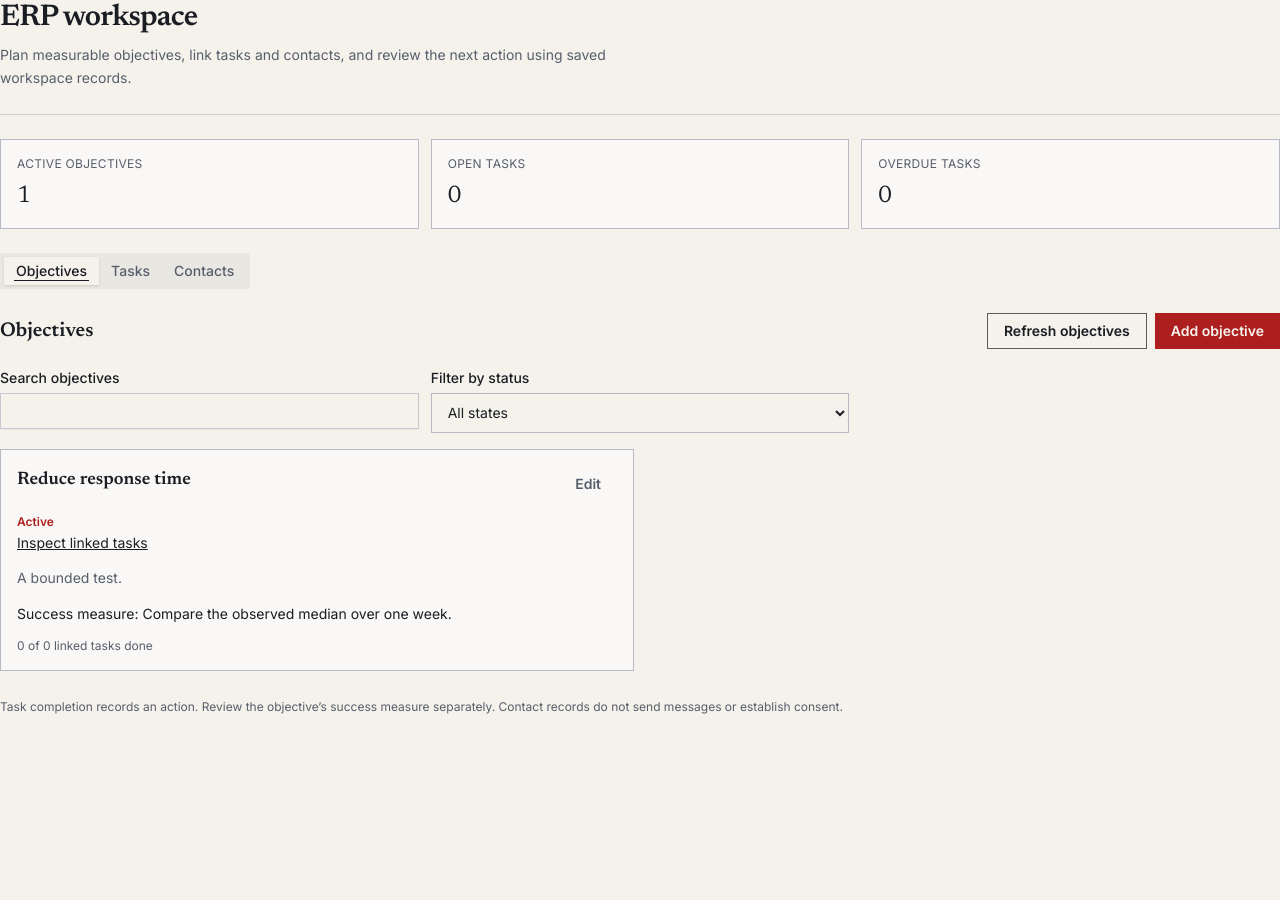
Test case: ERP planning › preserves an objective edit after a rejected save and permits a useful retry
Click the button with aria-label "Edit Reduce response time" at (588, 484), box [559, 466, 617, 502]
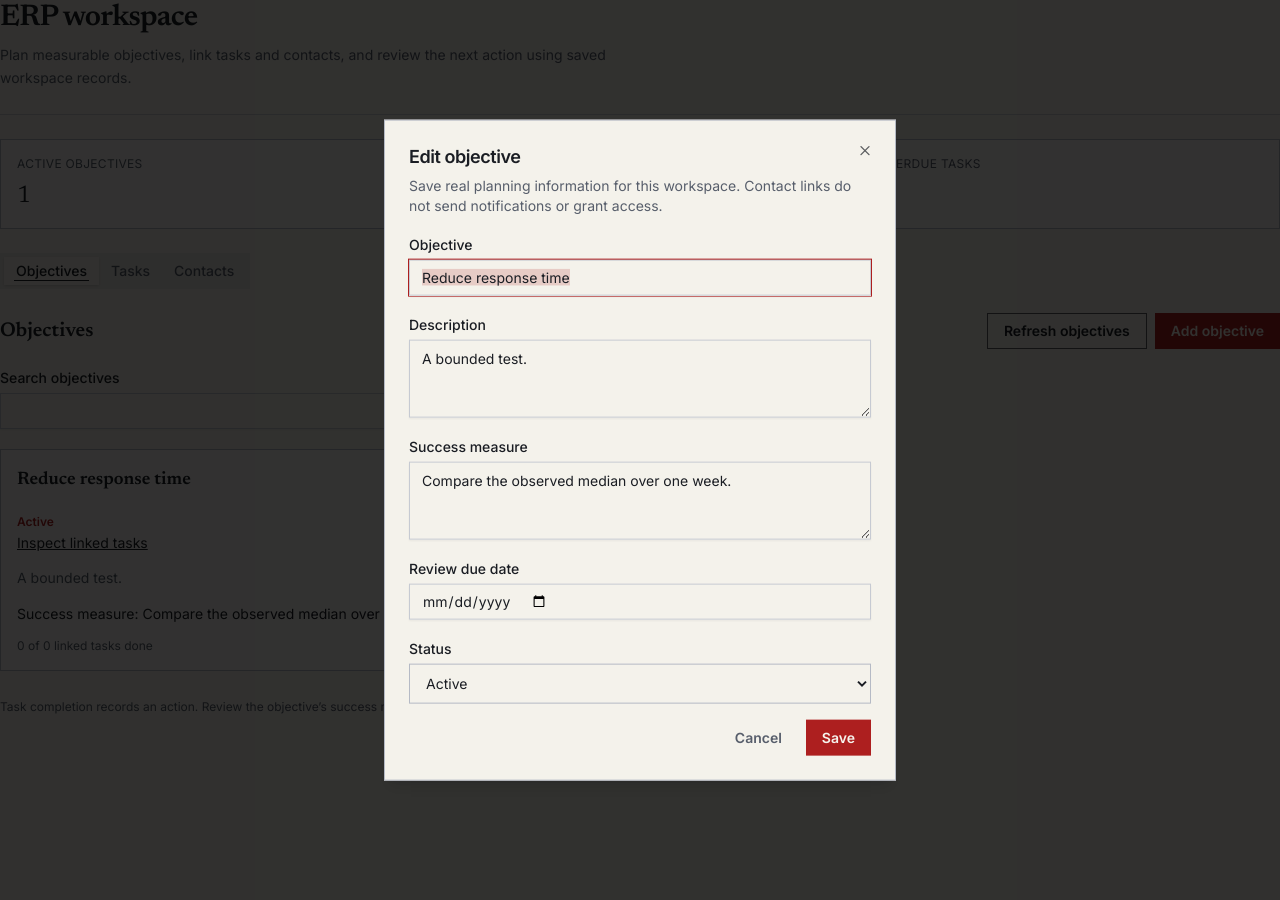
Replace the text in the text box labelled "Success measure" with "Use a measured baseline and a five-minute target." at (640, 500), box [409, 461, 871, 539]
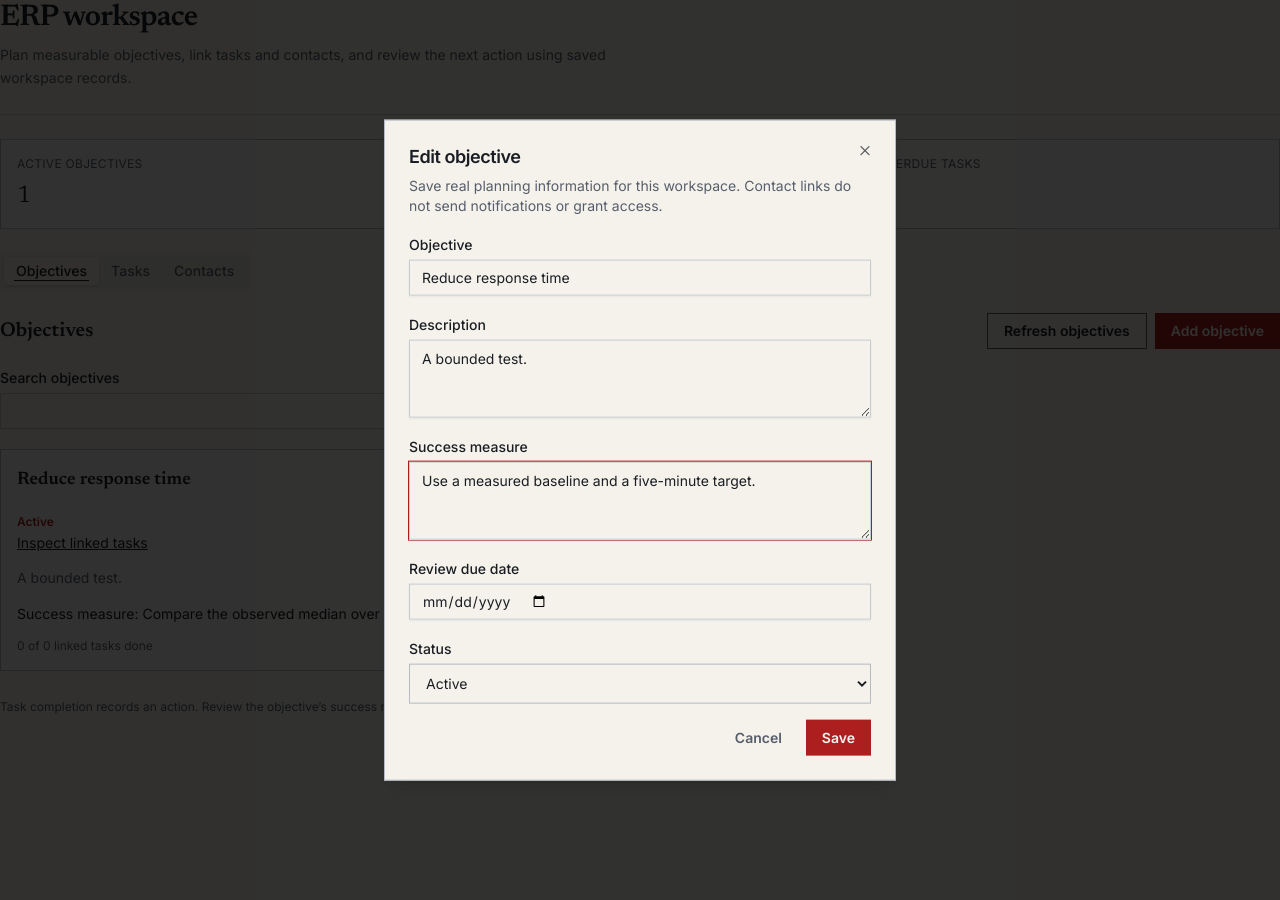
Click the button "Save" at (838, 737), box [806, 719, 871, 755]
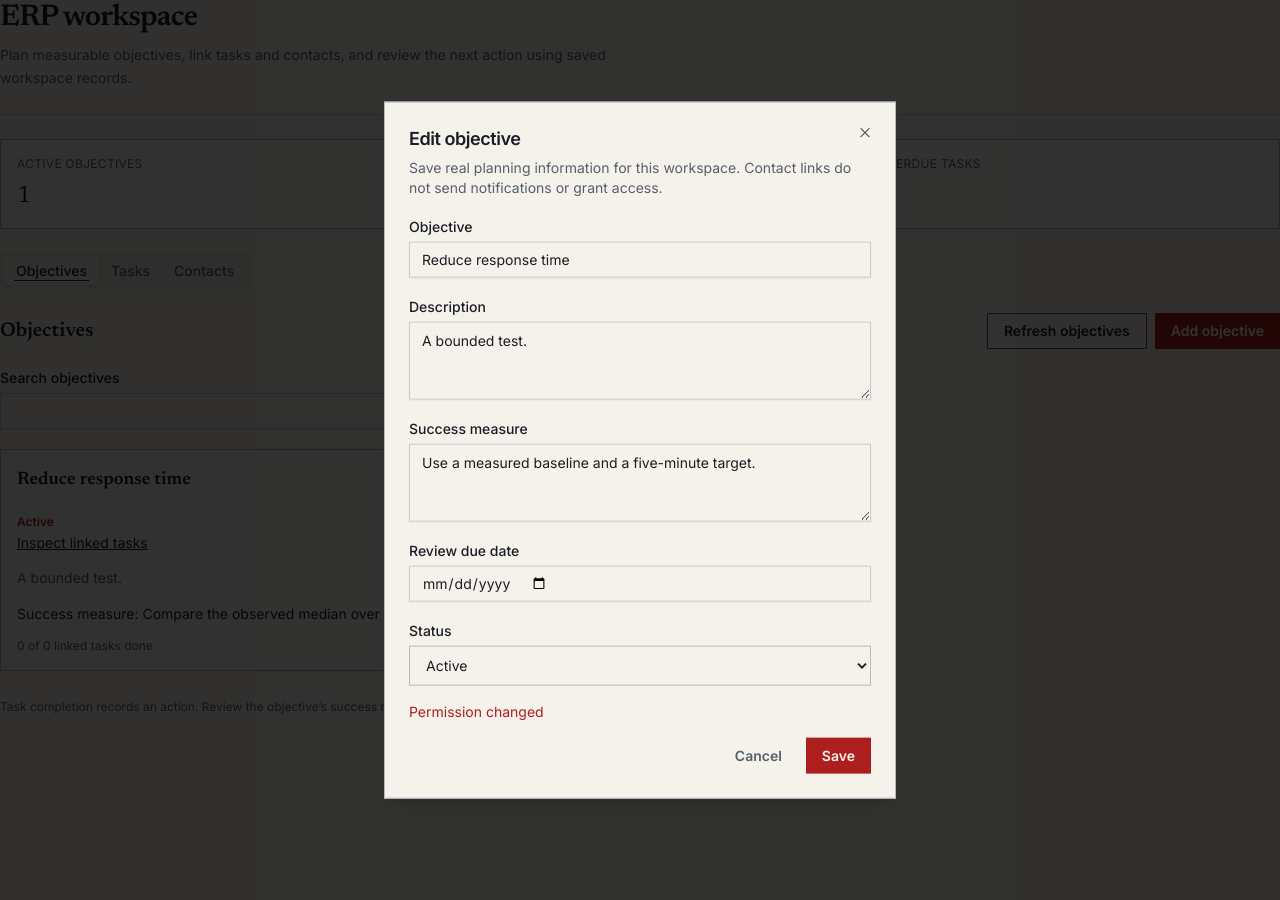
Expected: the message reads "Permission changed", [409, 702, 544, 719]
Click the button "Save" at (838, 755), box [806, 737, 871, 773]
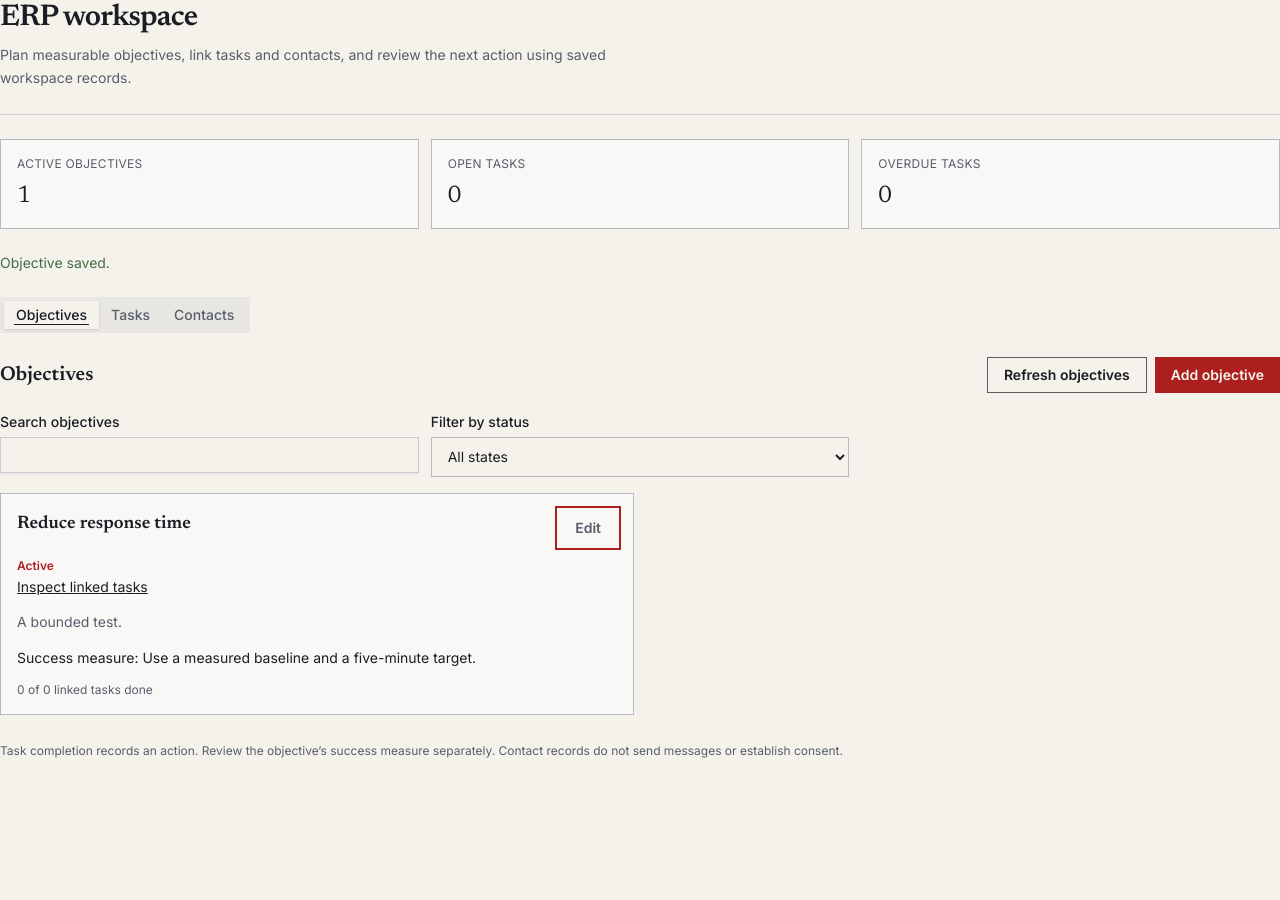
Expected: the text "Objective saved." is shown, [0, 254, 110, 270]
